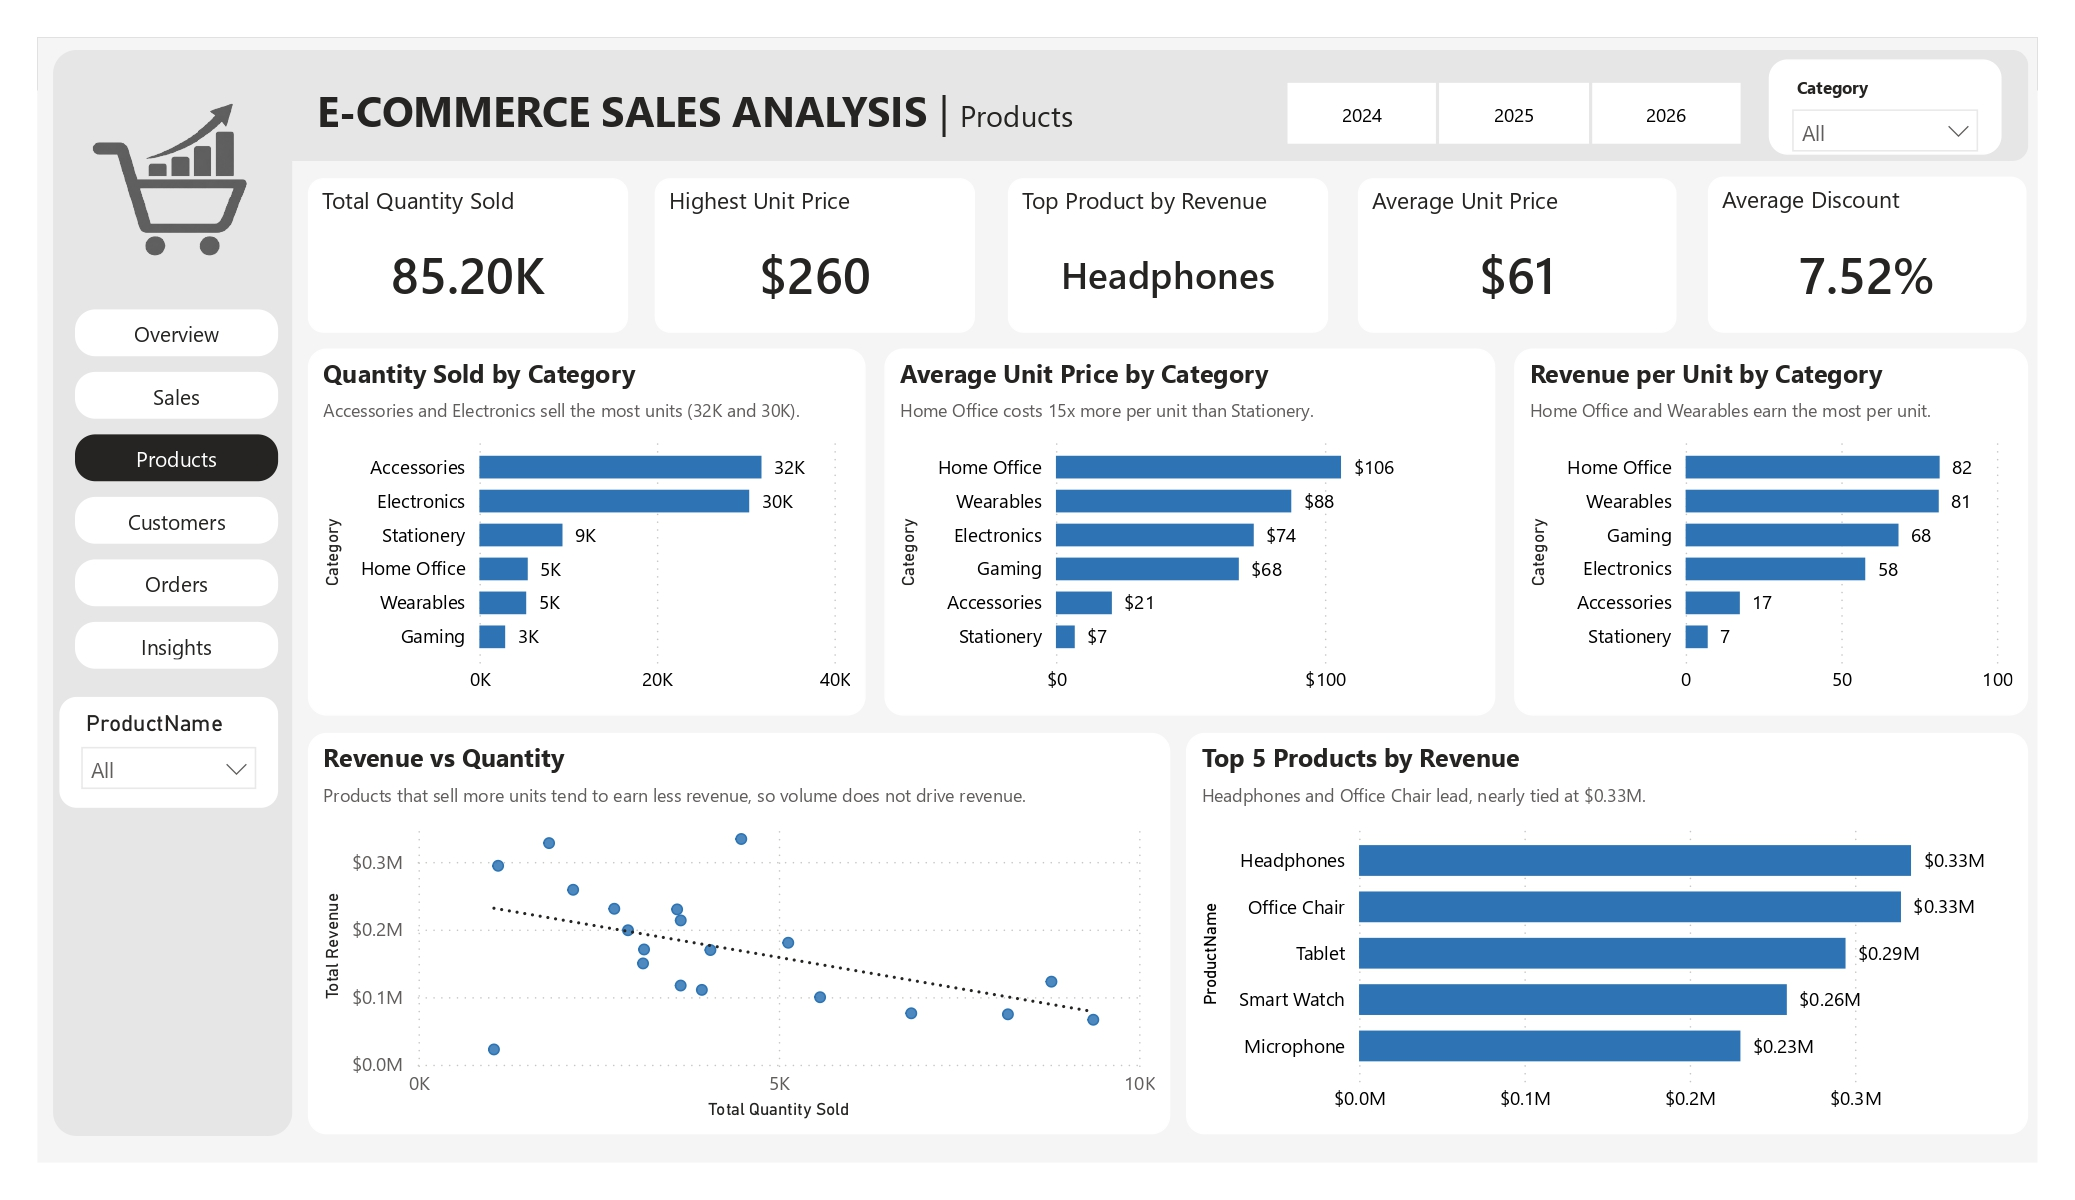

Layout of this report page (visuals, bound fields, positions):
{"tool":"powerbi","page":{"name":"Products ","canvas":[1280,720],"ordinal":2},"visuals":[{"type":"textbox","box":[138.9,8.3,1134.7,70.8],"z":0},{"type":"shape","box":[9.6,8.2,153.7,694.3],"z":1000},{"type":"pageNavigator","box":[23.6,173.6,130.6,235],"z":2000},{"type":"image","box":[12.5,22.2,151.4,133.3],"z":3000},{"type":"slicer","fields":{"Values":["DimDate.Year"]},"box":[773.6,22.2,340.3,52.8],"z":4000},{"type":"slicer","fields":{"Values":["DimProducts.Category"]},"box":[1108.3,13.9,148.6,61.1],"z":5000},{"type":"cardVisual","title":"Total Quantity Sold","fields":{"Data":["DAX Measure.Total Quantity"]},"box":[173,89.6,204.5,99.7],"z":6000},{"type":"cardVisual","title":"Average Unit Price","fields":{"Data":["DAX Measure.Average Unit Price"]},"box":[844.7,89.6,204.5,99.7],"z":7000},{"type":"cardVisual","title":"Average Discount","fields":{"Data":["DAX Measure.Average Discount"]},"box":[1069,89.2,204.5,100.2],"z":8000},{"type":"clusteredBarChart","title":"Quantity Sold by Category","fields":{"Category":["DimProducts.Category"],"Y":["DAX Measure.Total Quantity"]},"box":[172.5,199.1,357.1,235.3],"z":9000},{"type":"scatterChart","title":"Revenue vs Quantity","fields":{"X":["DAX Measure.Total Quantity"],"Y":["DAX Measure.Total Revenue"],"Category":["DimProducts.ProductName"]},"box":[172.5,445.2,552.5,257],"z":10000},{"type":"clusteredBarChart","fields":{"Category":["DimProducts.Category"],"Y":["DAX Measure.Average Unit Price"]},"box":[541.7,199.1,390.9,235.3],"z":11000},{"type":"clusteredBarChart","title":"Top 5 Products by Revenue","fields":{"Category":["DimProducts.ProductName"],"Y":["DAX Measure.Total Revenue"]},"box":[734.7,445.2,539.3,257],"z":12000},{"type":"clusteredBarChart","fields":{"Category":["DimProducts.Category"],"Y":["DAX Measure.Revenue per Unit"]},"box":[944.6,199.1,329.4,235.3],"z":13000},{"type":"cardVisual","title":"Highest Unit Price","fields":{"Data":["DAX Measure.Highest Unit Price"]},"box":[395.2,89.6,204.5,99.7],"z":14000},{"type":"cardVisual","title":"Top Product by Revenue","fields":{"Data":["DAX Measure.Top Product"]},"box":[621.2,89.6,204.5,99.7],"z":15000},{"type":"slicer","fields":{"Values":["DimProducts.ProductName"]},"box":[12.9,421.2,142.1,72.3],"z":16000}]}

Visuals, with their boxes on the page's 1280x720 design canvas (x1, y1, x2, y2). These are canvas units, not pixel positions in the 2075x1200 screenshot, which may show the page scaled, cropped or inside an application window:
textbox: [x1=139, y1=8, x2=1274, y2=79]
shape: [x1=10, y1=8, x2=163, y2=702]
pageNavigator: [x1=24, y1=174, x2=154, y2=409]
image: [x1=12, y1=22, x2=164, y2=156]
slicer - DimDate.Year: [x1=774, y1=22, x2=1114, y2=75]
slicer - DimProducts.Category: [x1=1108, y1=14, x2=1257, y2=75]
"Total Quantity Sold" cardVisual: [x1=173, y1=90, x2=378, y2=189]
"Average Unit Price" cardVisual: [x1=845, y1=90, x2=1049, y2=189]
"Average Discount" cardVisual: [x1=1069, y1=89, x2=1274, y2=189]
"Quantity Sold by Category" clusteredBarChart: [x1=172, y1=199, x2=530, y2=434]
"Revenue vs Quantity" scatterChart: [x1=172, y1=445, x2=725, y2=702]
clusteredBarChart - DimProducts.Category x DAX Measure.Average Unit Price: [x1=542, y1=199, x2=933, y2=434]
"Top 5 Products by Revenue" clusteredBarChart: [x1=735, y1=445, x2=1274, y2=702]
clusteredBarChart - DimProducts.Category x DAX Measure.Revenue per Unit: [x1=945, y1=199, x2=1274, y2=434]
"Highest Unit Price" cardVisual: [x1=395, y1=90, x2=600, y2=189]
"Top Product by Revenue" cardVisual: [x1=621, y1=90, x2=826, y2=189]
slicer - DimProducts.ProductName: [x1=13, y1=421, x2=155, y2=494]
